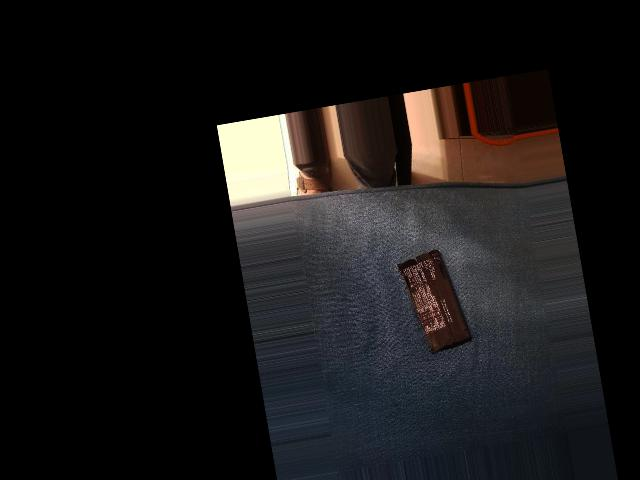chocolate: (387, 243, 474, 358)
